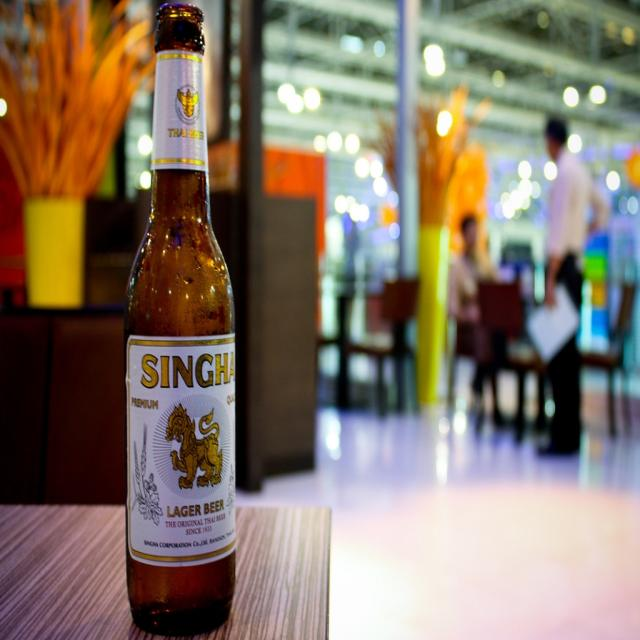singha: (126, 334, 237, 565)
